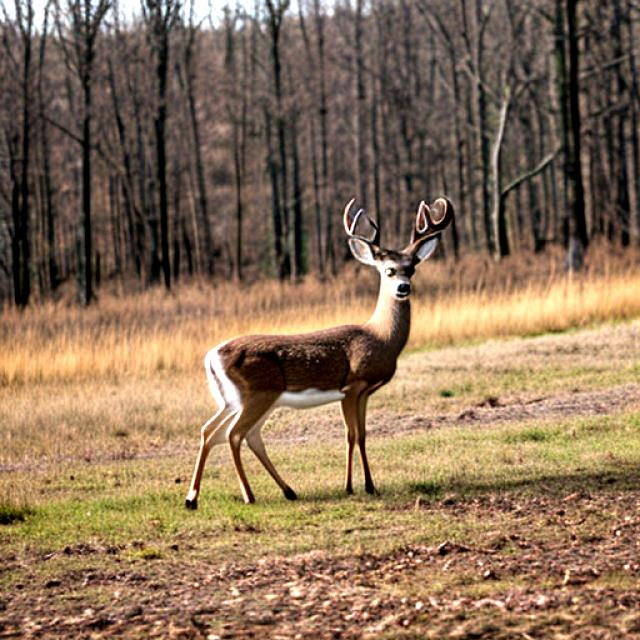deer: (181, 192, 499, 530)
